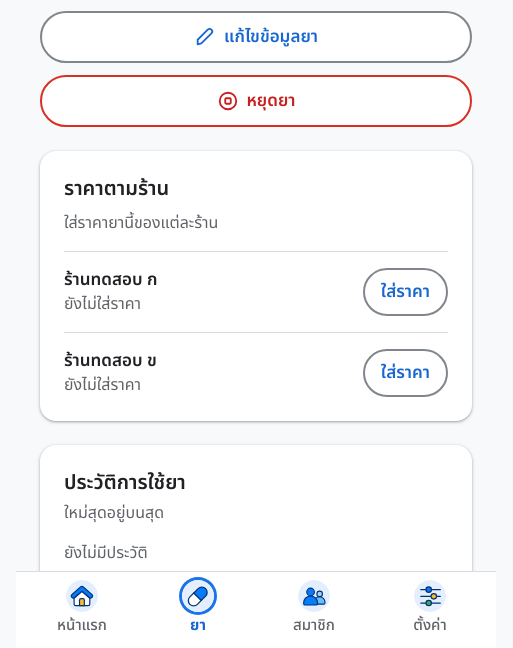
regular medicine: put, change and delete a price › price 0 is refused with the text of invalid_price, under the box; nothing is saved
(page scrolled)
Step 1. Click the button with aria-label "ใส่ราคา ร้านทดสอบ ก" → (405, 292), box [363, 268, 448, 316]
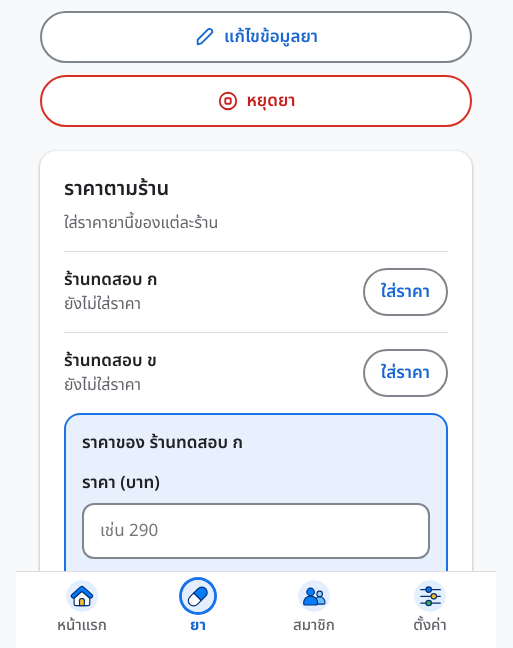
Step 2. Type "0" into the number field labelled "ราคา (บาท)" → (256, 531), box [82, 503, 430, 559]
(page scrolled)
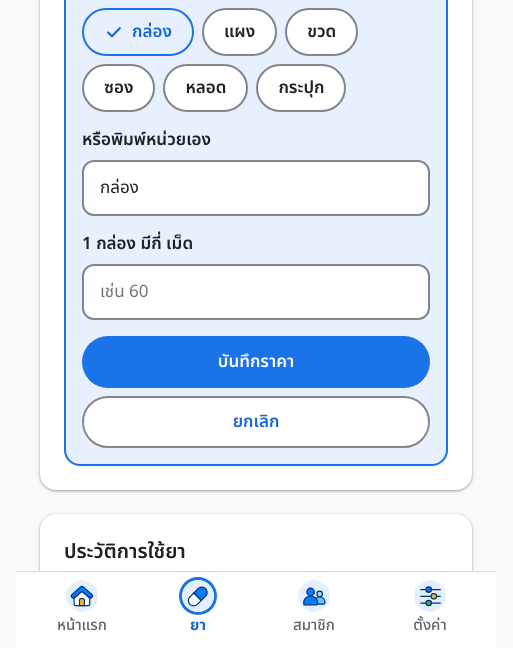
Step 3. Type "60" into the number field labelled "1 กล่อง มีกี่ เม็ด" → (256, 292), box [82, 264, 430, 320]
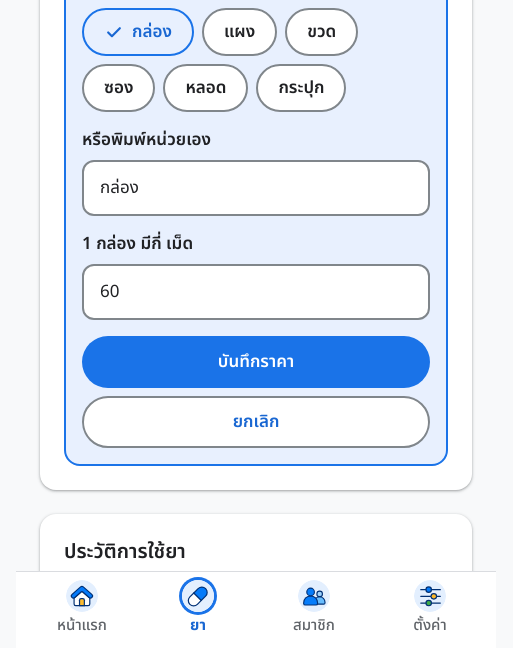
Step 4. Click the button "บันทึกราคา" → (256, 362), box [82, 336, 430, 388]
(page scrolled)
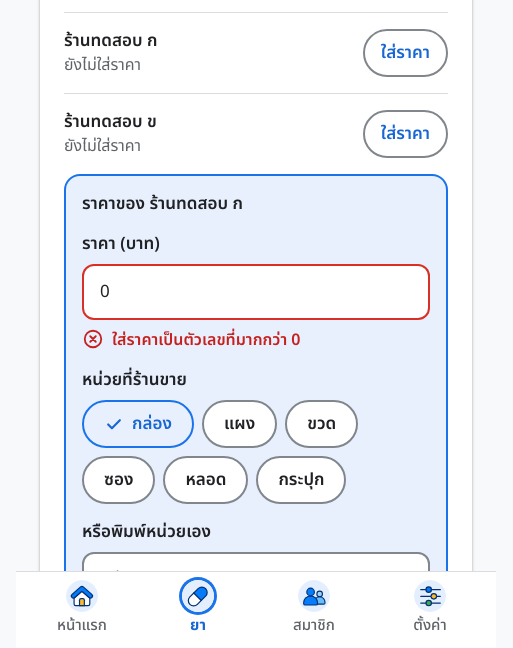
expect the heading "ราคาของ ร้านทดสอบ ก" is shown: met, box [82, 191, 243, 217]
expect the text "ใส่ราคาเป็นตัวเลขที่มากกว่า 0" is shown: met, box [82, 328, 300, 352]
Step 5. Replace the text in the number field labelled "ราคา (บาท)" with "1" → (256, 292), box [82, 264, 430, 320]
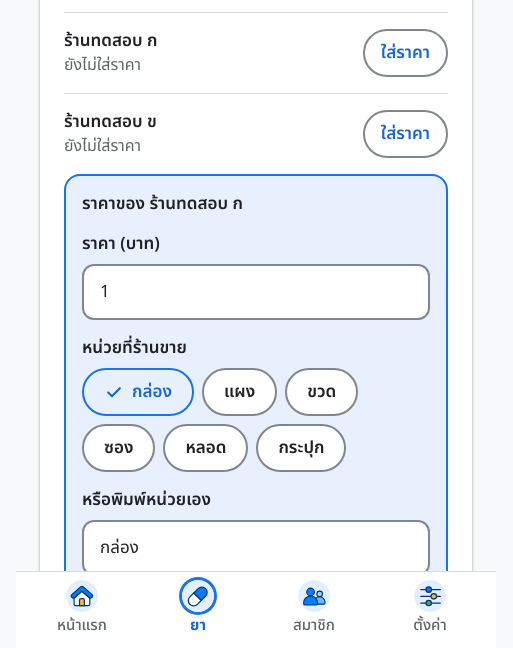
expect the text "ใส่ราคาเป็นตัวเลขที่มากกว่า 0" is gone: met
